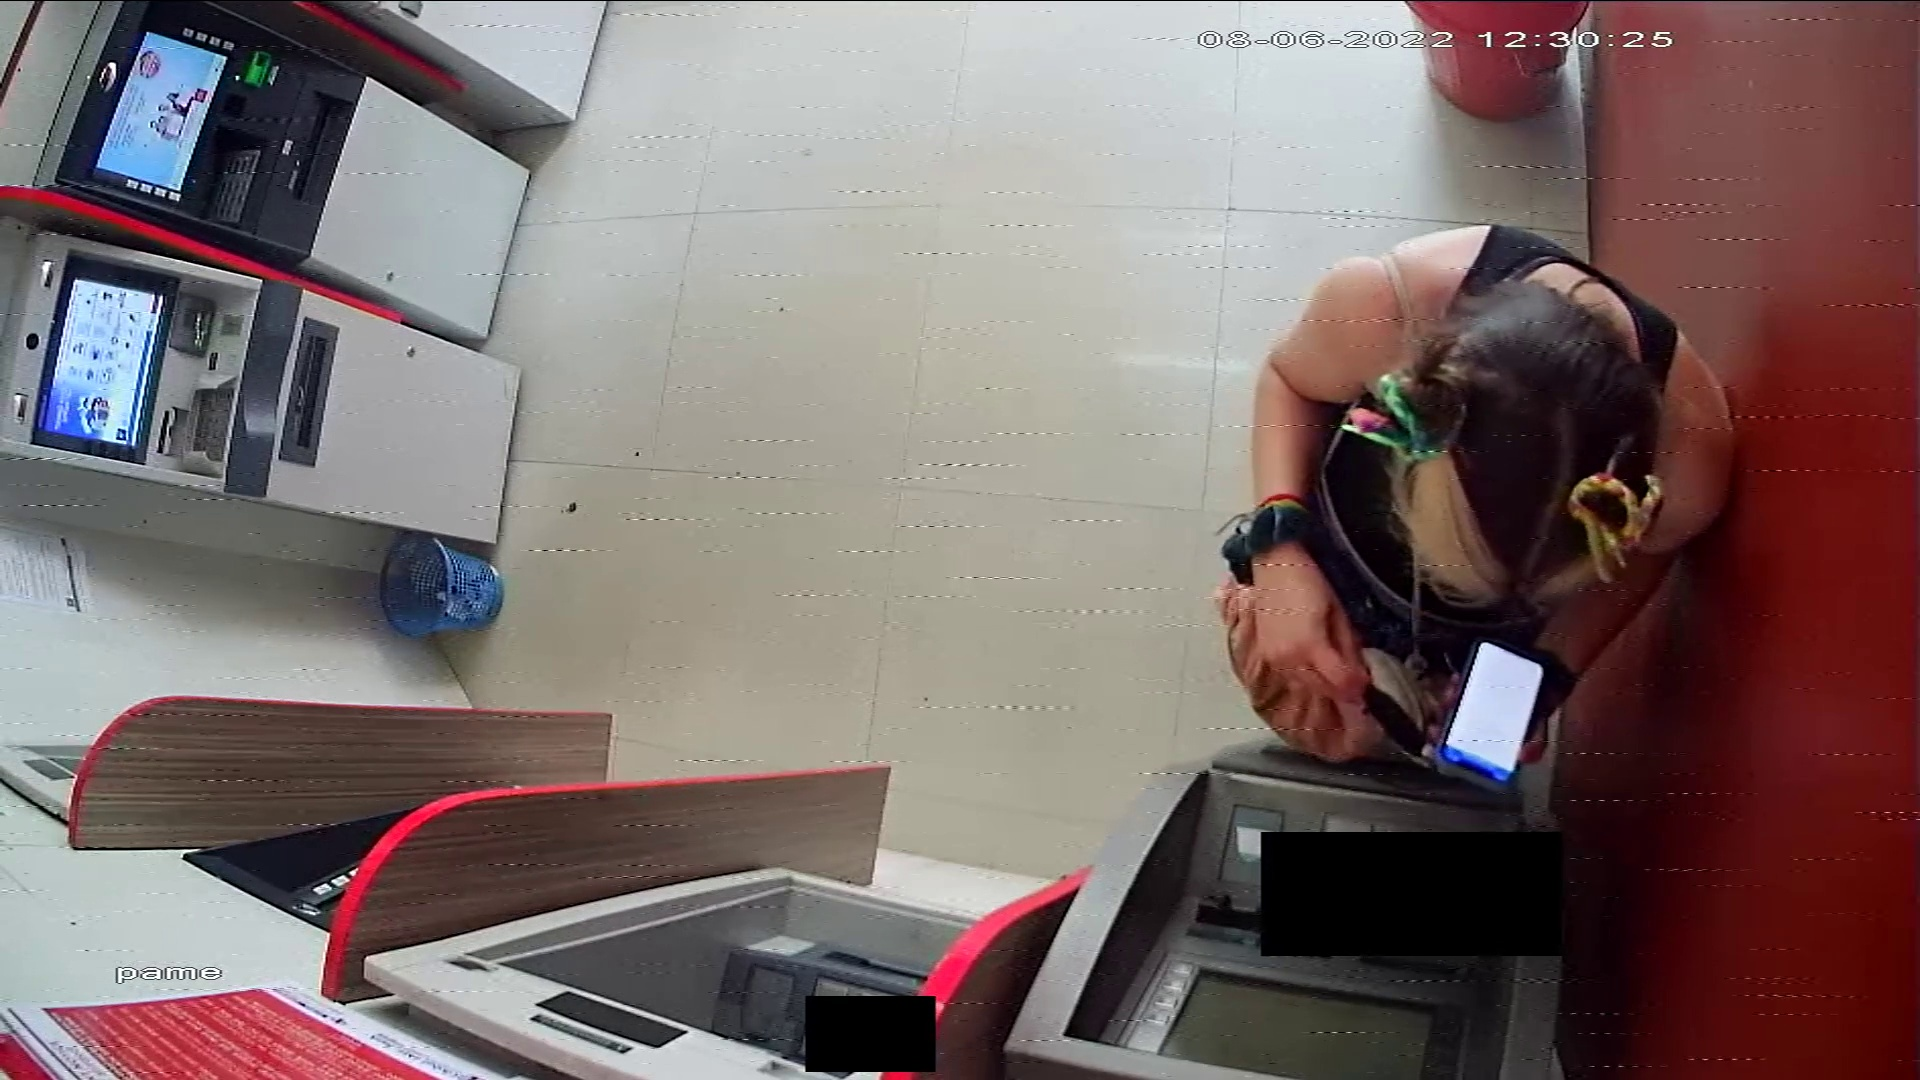person: (1249, 224, 1732, 761)
phone: (1439, 639, 1545, 786)
